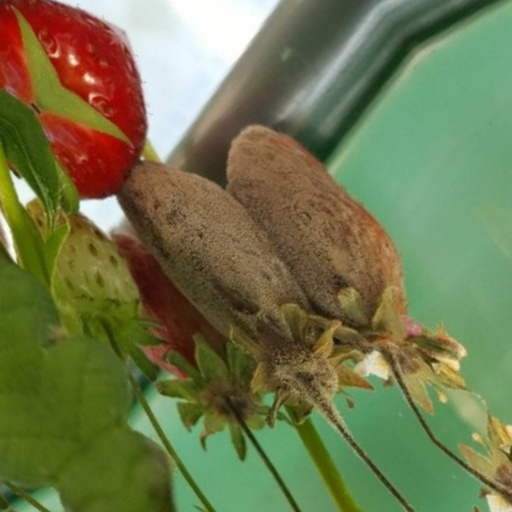Gray Mold: (153, 56, 279, 405), (251, 8, 372, 361)
